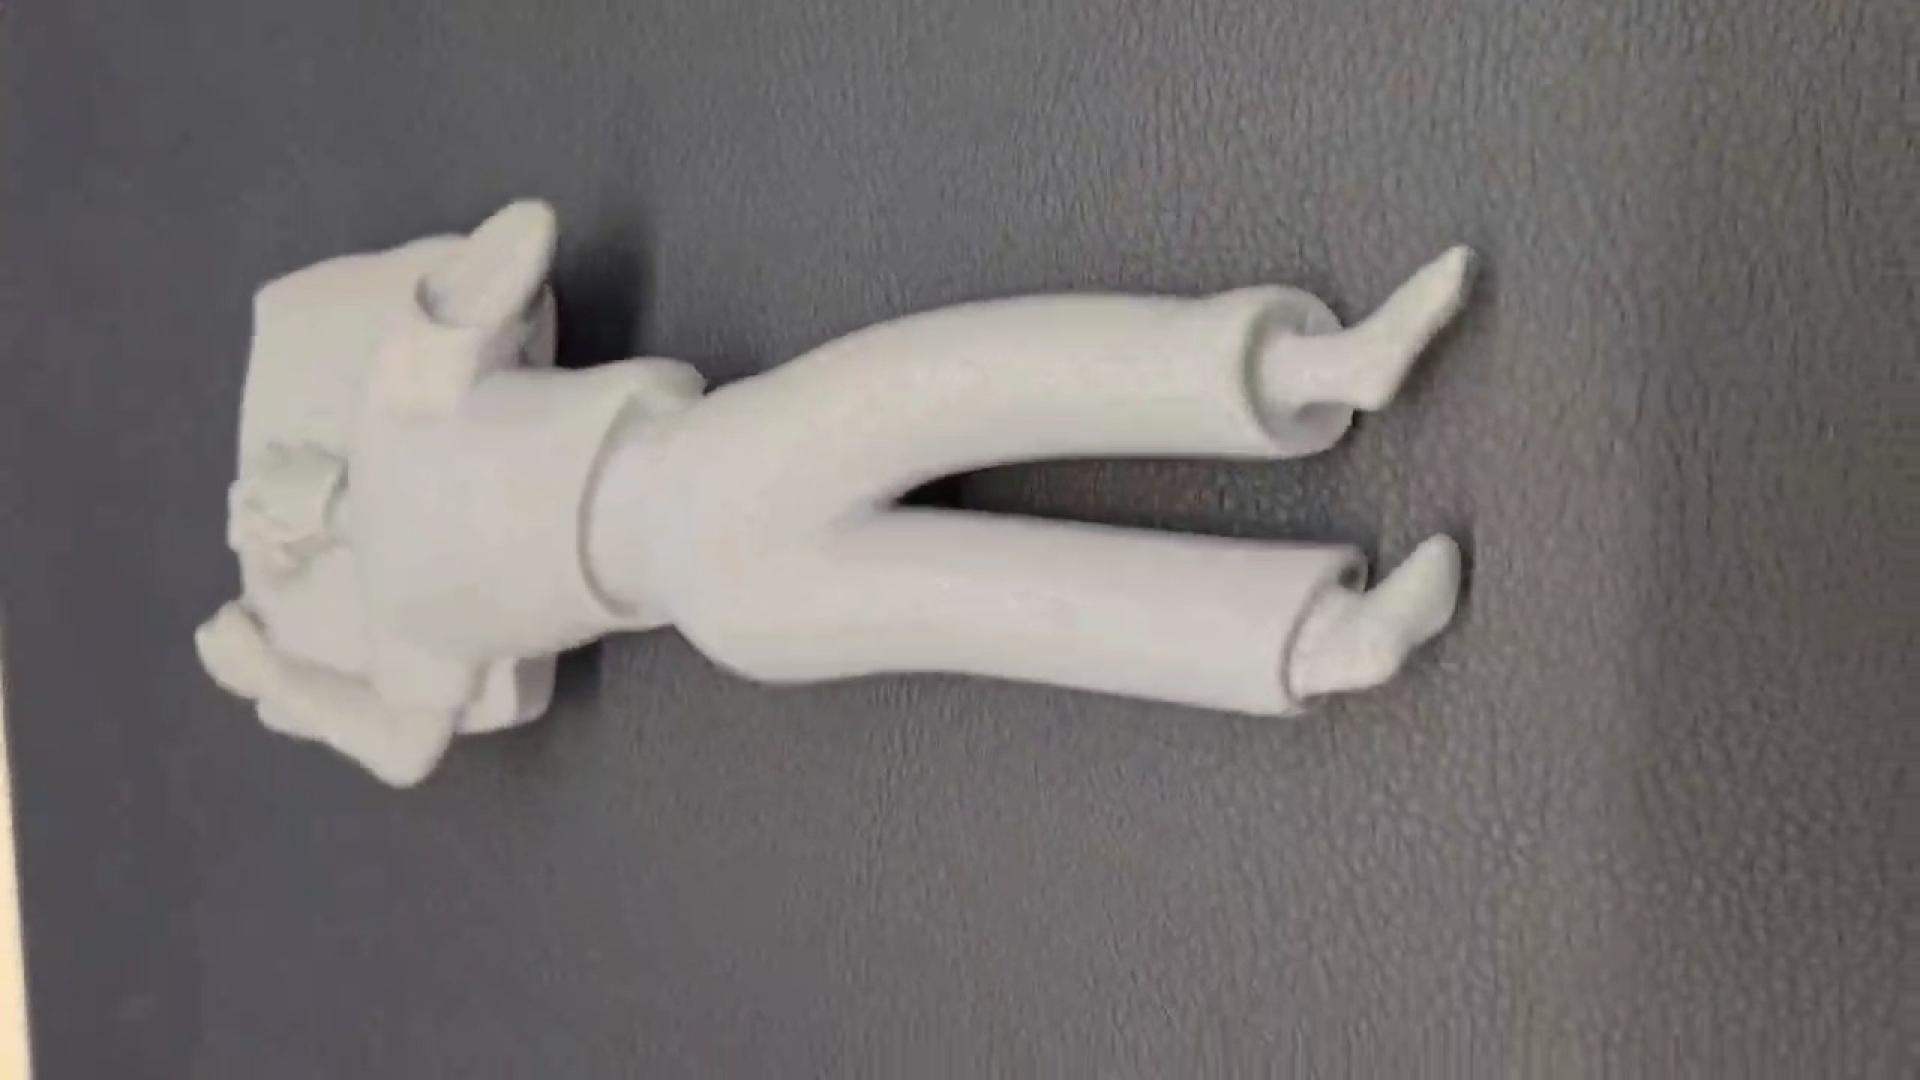Bad-style: (198, 183, 1497, 810)
